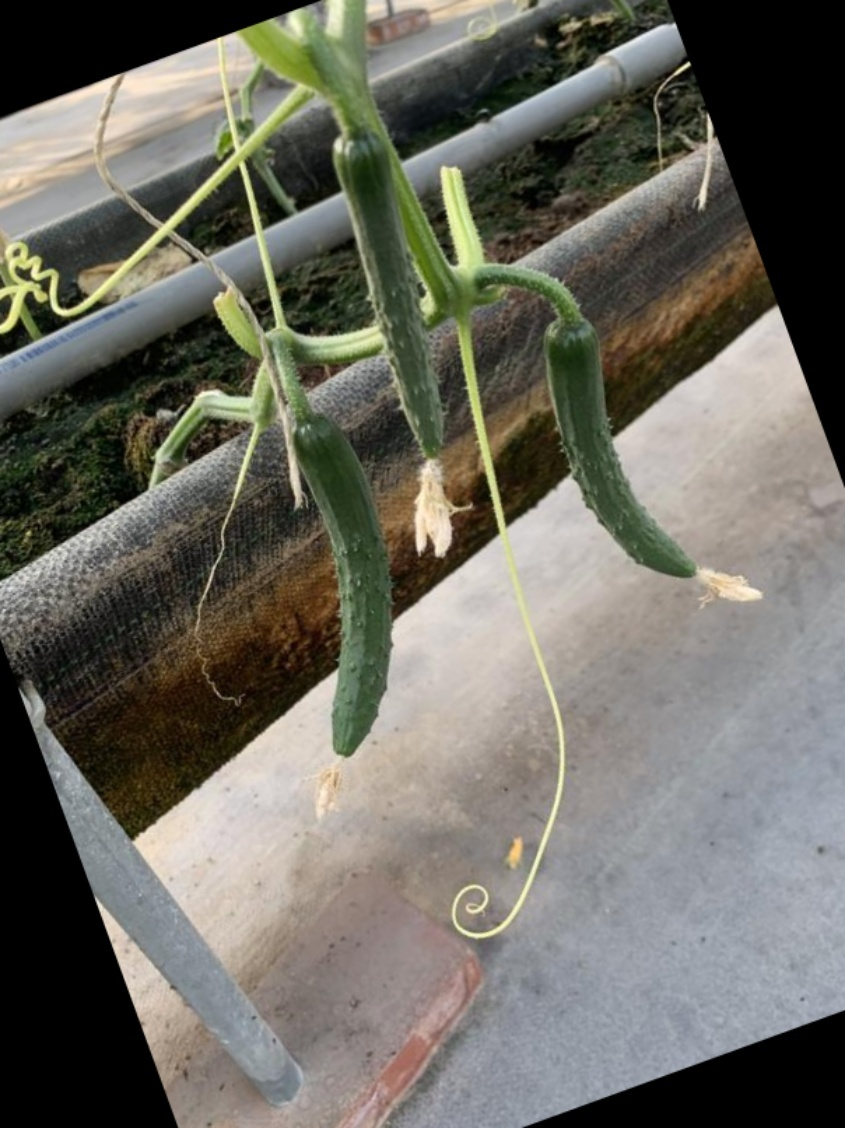growth: (324, 125, 454, 458)
